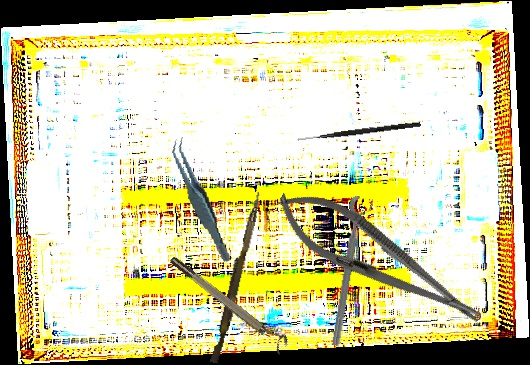Fixation Ring: (167, 249, 292, 355), (327, 194, 376, 349)
Hook Surgical: (297, 120, 421, 144)
Needle Holder: (264, 175, 494, 344)
Pusher: (209, 190, 263, 365)
Tissue Forceps: (169, 132, 232, 269)
